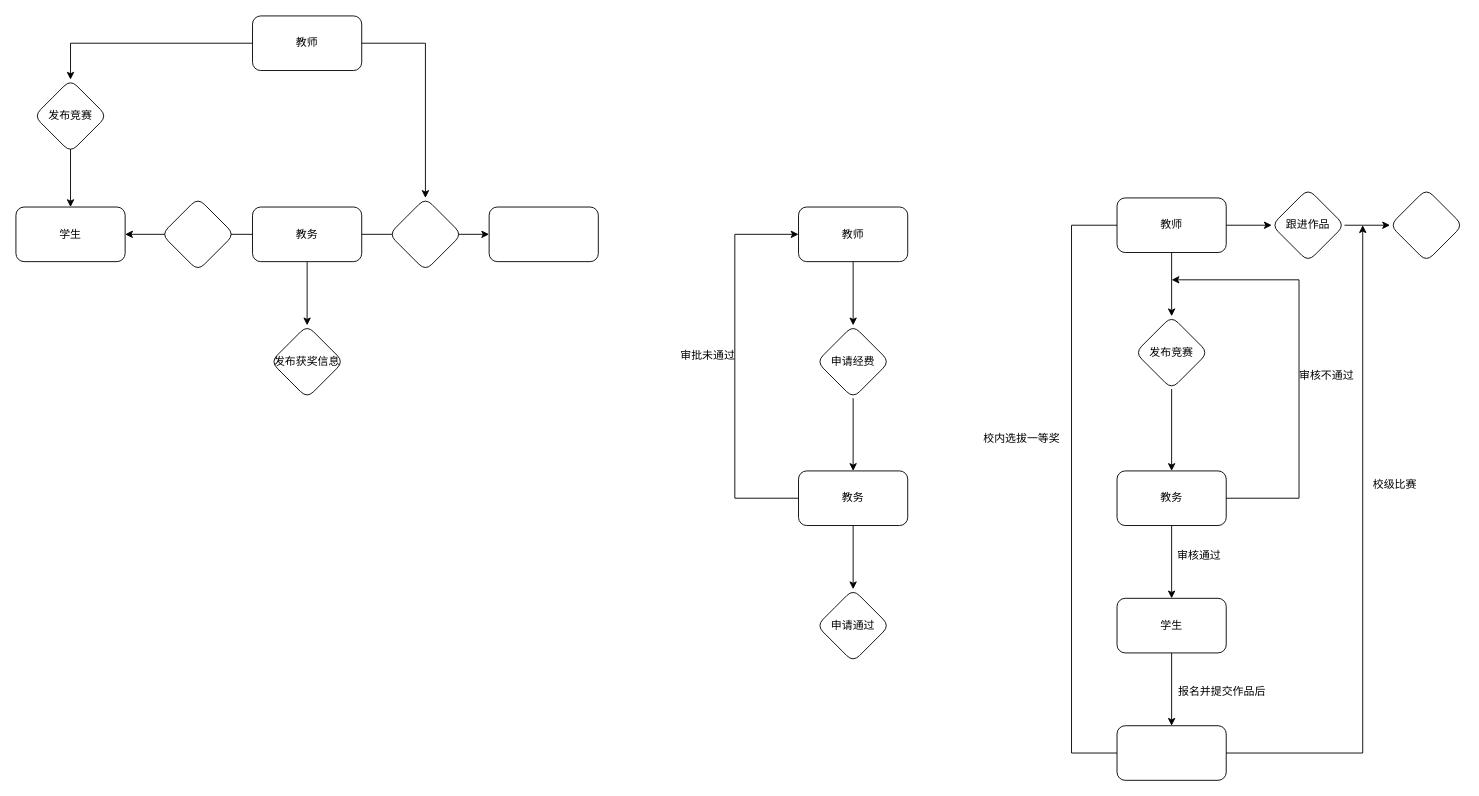
Some shapes in this 1479 by 796 pixel diagram are drawn without their labels. Here are the shapes that lost their labels. From the top down, the centre of each, then its label:
(x=197, y=234): 审核报名
(x=425, y=234): 跟进信息
(x=543, y=234): 发布竞赛获奖信息
(x=1426, y=225): 发布总结
(x=1171, y=752): 评委
